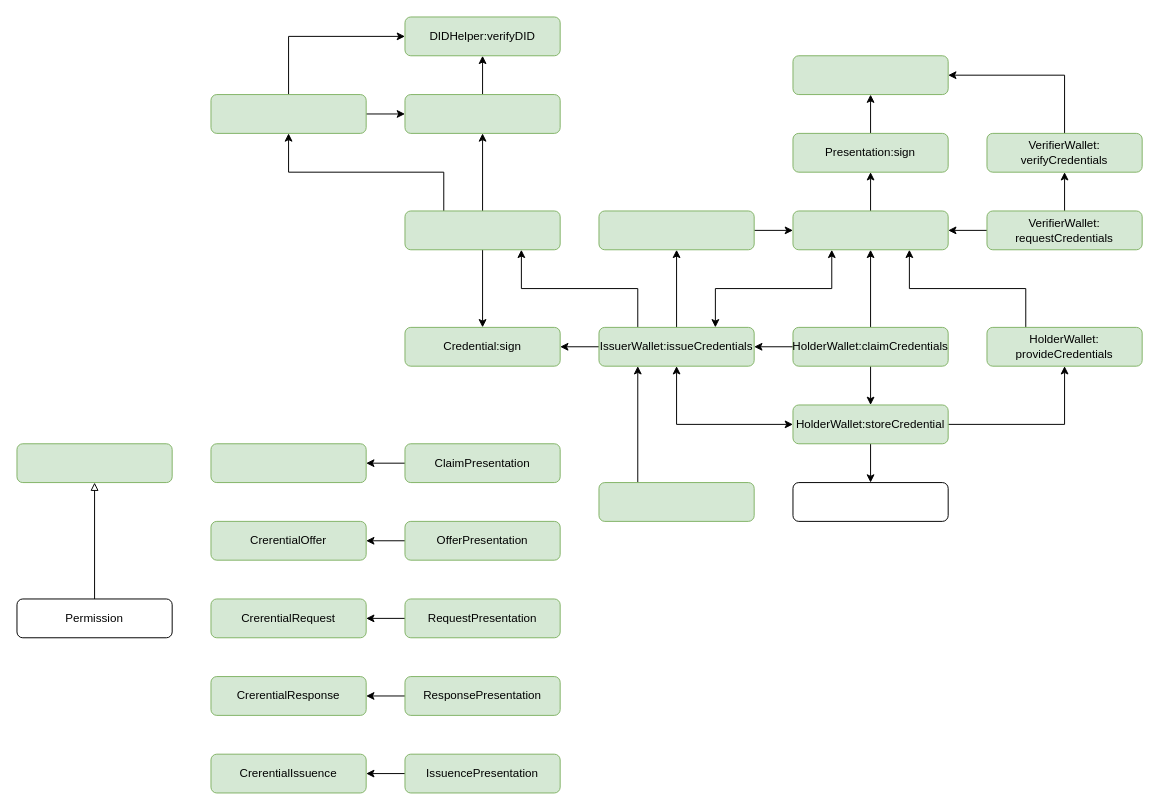
Image size: 1159x810. Some labels were removed from this diagram. Each missing label, with the centre of its shape:
"Credential" belongs at (94,463).
"Credential:create" belongs at (482,230).
"Credential:verfiy" belongs at (482,113).
"CrerentialClaim" belongs at (288,463).
"DIDHelper:createDID" belongs at (288,113).
"HolderWallet: introduceCredentials" belongs at (870,501).
"HolderWallet:confirmOffer" belongs at (676,501).
"IssuerWallet: offerCredentials" belongs at (676,230).
"Presentation:create" belongs at (870,230).
"Presentation:verify" belongs at (870,75).
